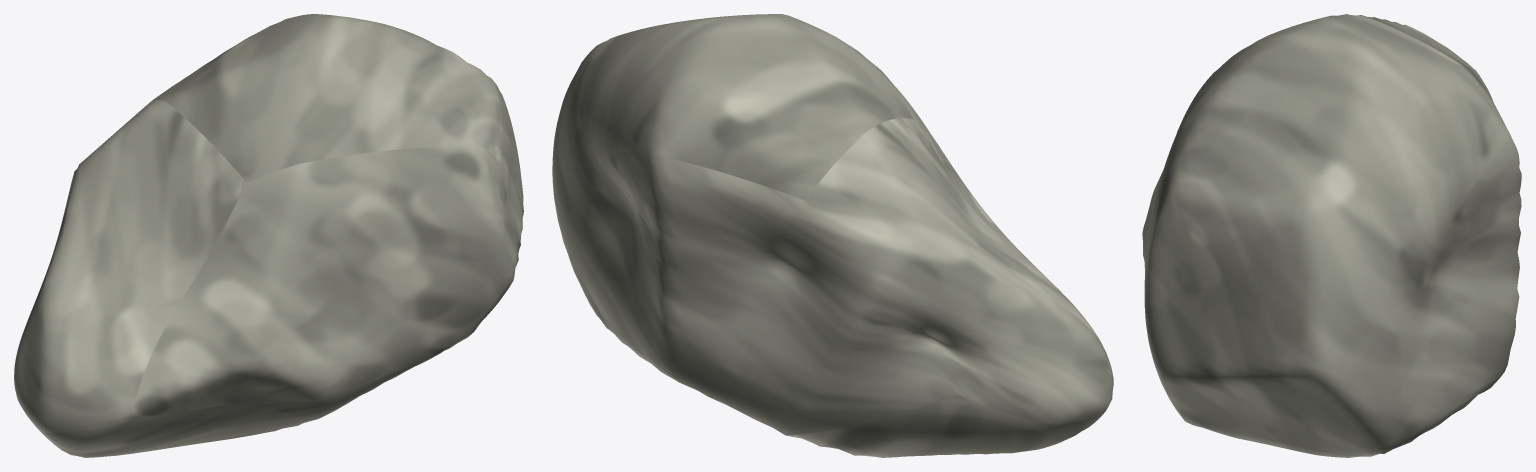
File: Rock3.fbx
The picture shows the model from 3 angles, left to right: view 1: azimuth 30°, elevation 25°; view 2: azimuth 150°, elevation 25°; view 3: azimuth 270°, elevation 25°; orthographic projection. The views are drawn at different scales.
Visible parts, largest first — view 1: Cube.002; view 2: Cube.002; view 3: Cube.002.
Part boxes in pixels (bbox=[...]): Cube.002: bbox=[14, 14, 523, 457]; Cube.002: bbox=[552, 14, 1113, 457]; Cube.002: bbox=[1142, 14, 1521, 457].
Bounding box in the file's own units: 169 × 119 × 91.72.
1 material, 1 textured.
